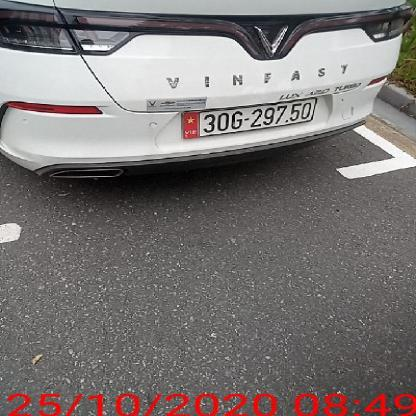biensoxe: (180, 97, 319, 141)
